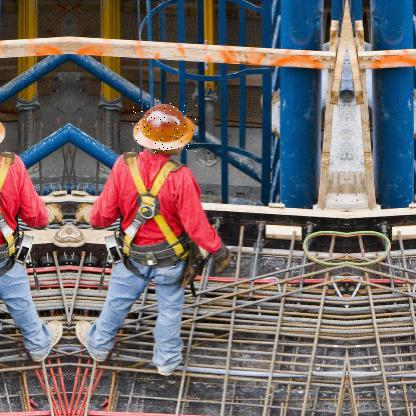safetyhelmet: (132, 100, 198, 154)
